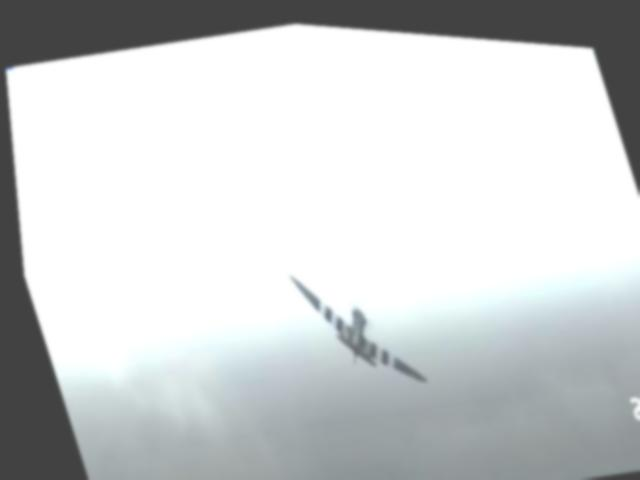uav: (278, 239, 430, 405)
